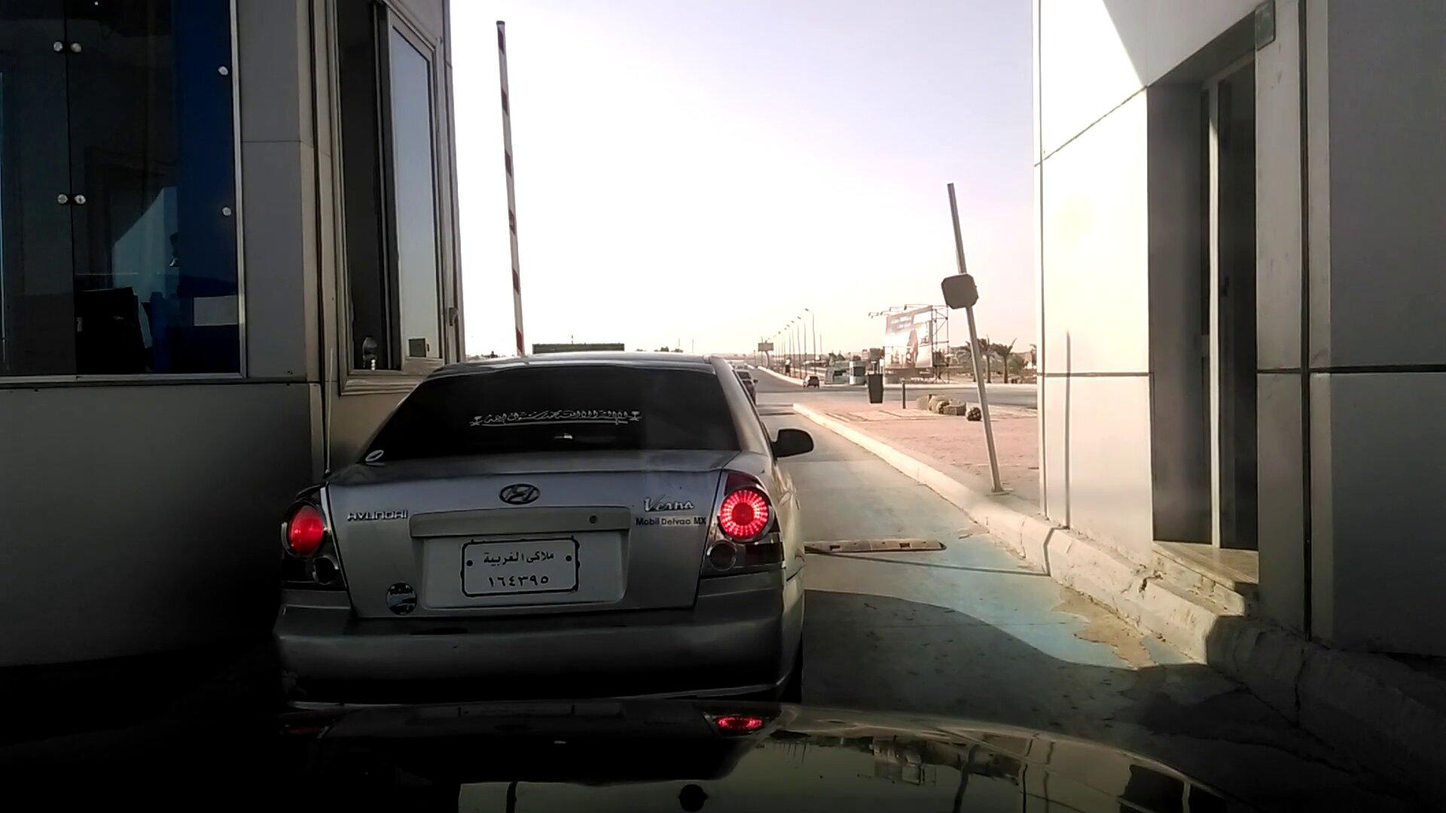Bump: (795, 528, 952, 566)
